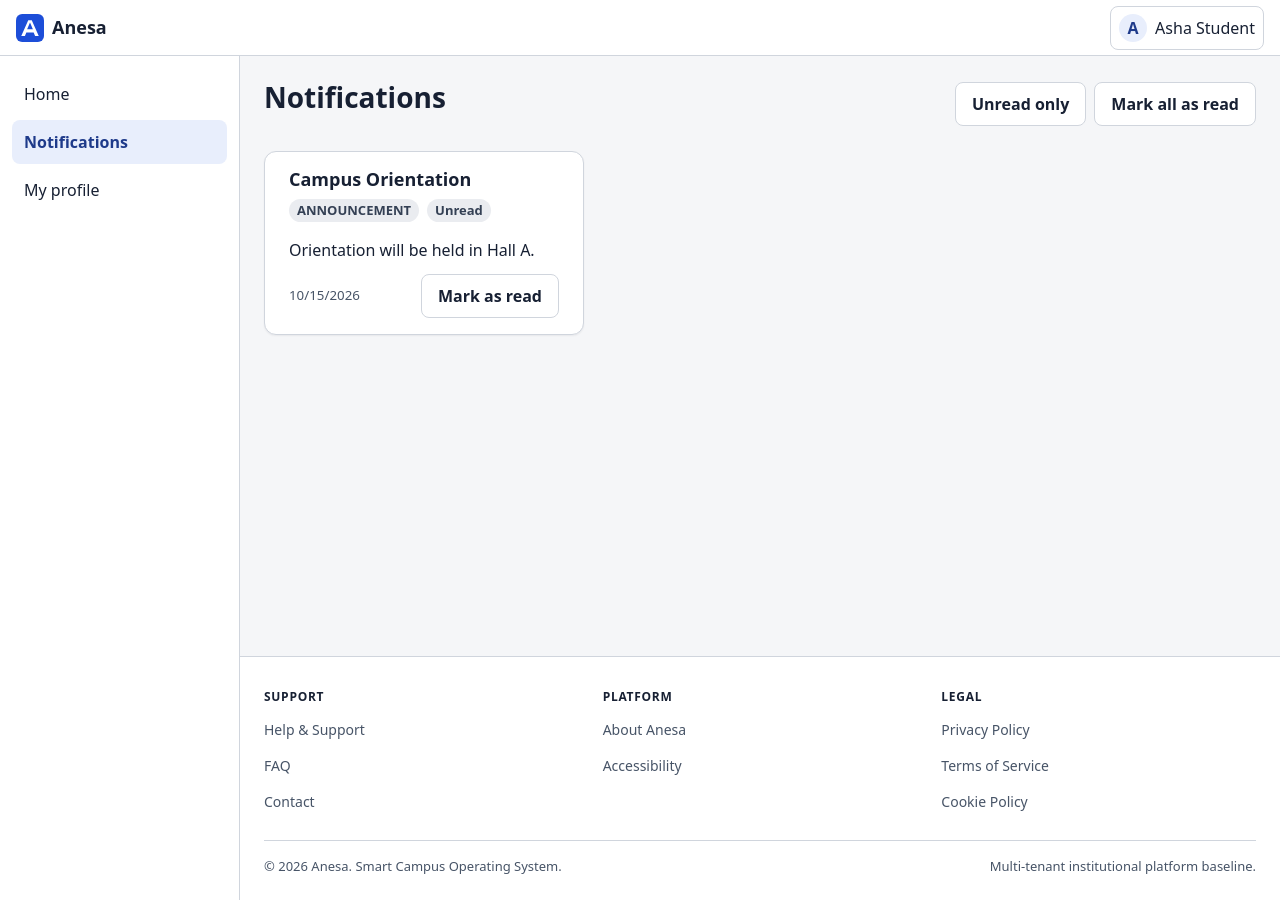
Test: Phase 1 Pages (Web Integration) › NotificationsPage › toggles unread only view
Click the button "Unread only": (1021,104) left=955, top=82, right=1086, bottom=126
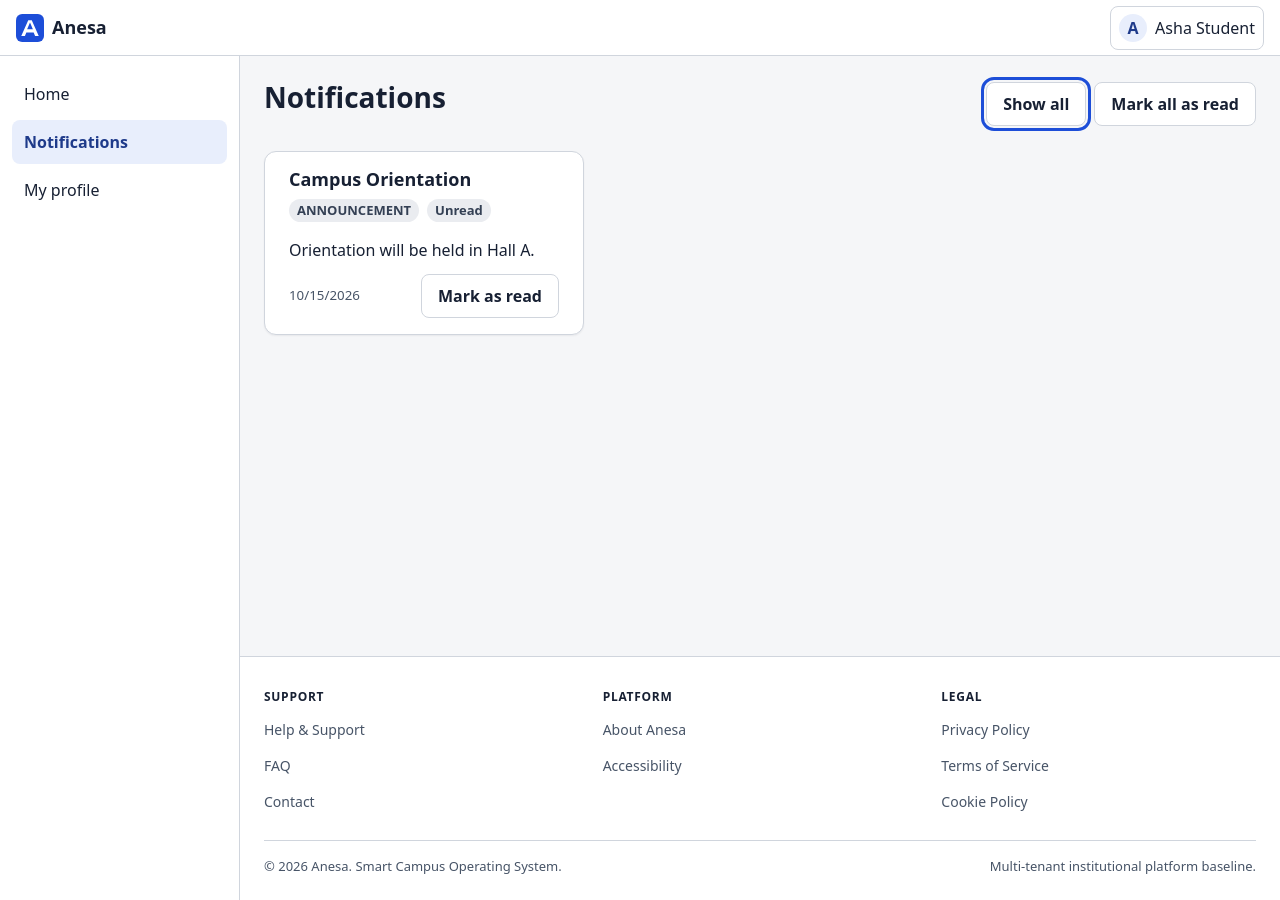
Now the button "Show all" is shown, box left=986, top=82, right=1086, bottom=126
